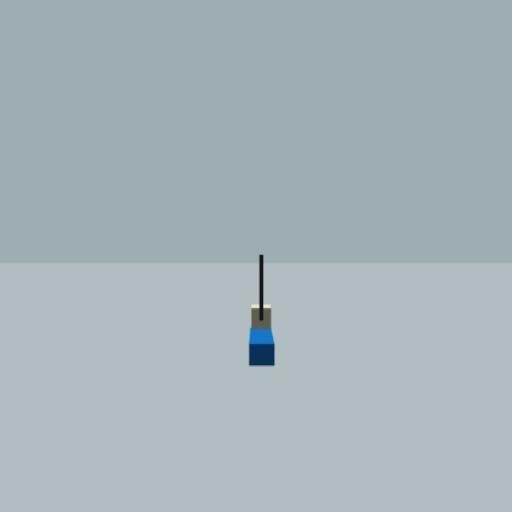fishing_boat: (248, 252, 276, 370)
